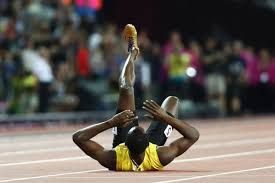10+: (1, 1, 275, 176)
down: (68, 17, 207, 175)
